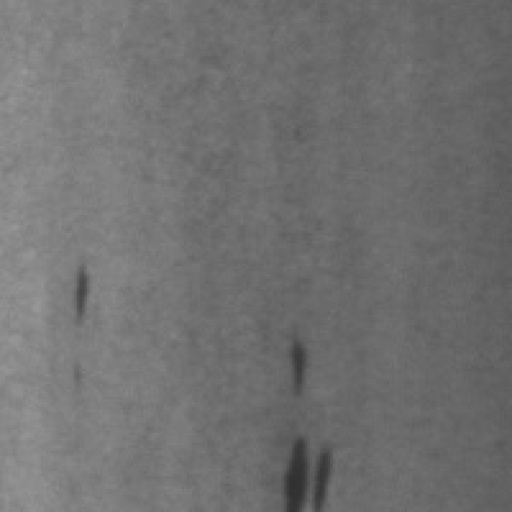inclusion: (273, 430, 343, 510), (66, 258, 101, 330), (282, 325, 316, 399)
